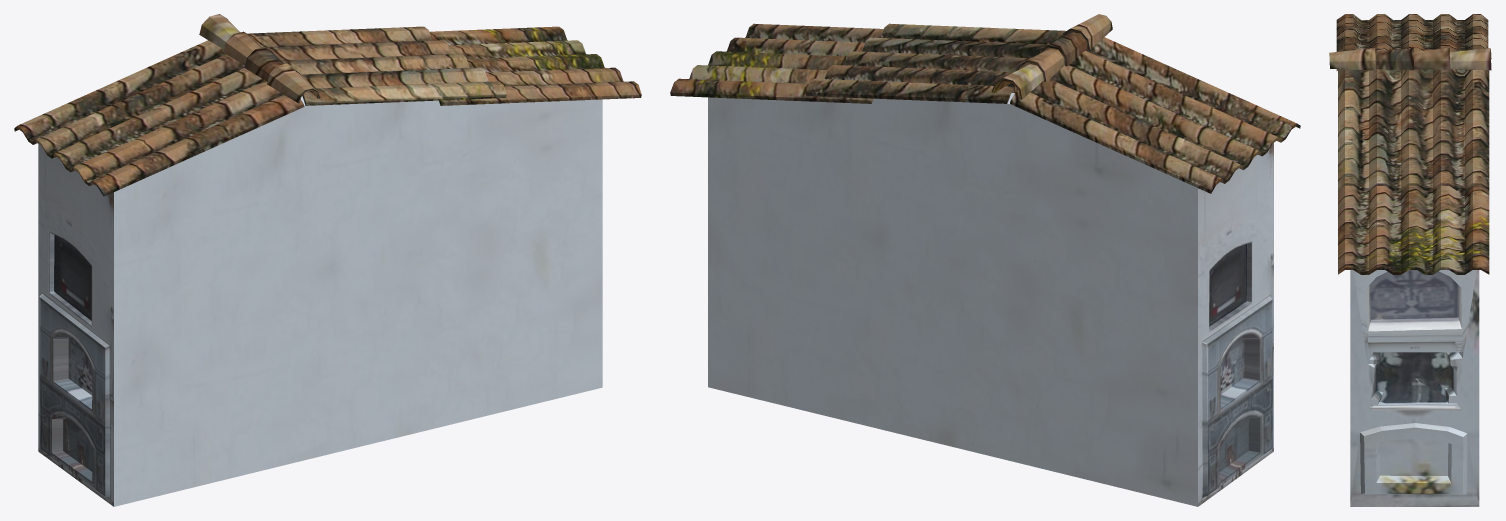
The model's file is nicho_grande_1.fbx.
The picture shows the model from 3 angles, left to right: view 1: azimuth 30°, elevation 25°; view 2: azimuth 150°, elevation 25°; view 3: azimuth 270°, elevation 25°; orthographic projection. The views are drawn at different scales.
Visible parts, largest first — view 1: Cube, Cube.018, Cube.017, Cube.016, Cube.022, Cube.019, Cube.021, Cube.020; view 2: Cube, Cube.018, Cube.017, Cube.016, Cube.019, Cube.022, Cube.021, Cube.020; view 3: Cube, Cube.017, Cube.016, Cube.018, Cube.022, Cube.019, Cube.021, Cube.020.
Boxes of the visible parts, box(x1,y1,x2,y2) form: Cube: box(38, 96, 602, 506); Cube.018: box(14, 40, 304, 196); Cube.017: box(247, 26, 506, 105); Cube.016: box(429, 26, 641, 105); Cube.022: box(267, 63, 319, 103); Cube.019: box(199, 14, 240, 49); Cube.021: box(244, 47, 283, 81); Cube.020: box(223, 31, 262, 65); Cube: box(708, 93, 1273, 506); Cube.018: box(1010, 37, 1300, 193); Cube.017: box(805, 23, 1065, 103); Cube.016: box(670, 23, 883, 103); Cube.019: box(991, 64, 1043, 99); Cube.022: box(1061, 14, 1112, 49); Cube.021: box(1039, 32, 1087, 66); Cube.020: box(1017, 48, 1064, 81); Cube: box(1350, 270, 1479, 506); Cube.017: box(1338, 69, 1489, 190); Cube.016: box(1338, 185, 1489, 274); Cube.018: box(1336, 14, 1488, 70); Cube.022: box(1329, 48, 1376, 70); Cube.019: box(1449, 48, 1491, 70); Cube.021: box(1375, 48, 1414, 70); Cube.020: box(1413, 48, 1450, 70).
Size of the model in its own units: 828 by 565 by 252.
